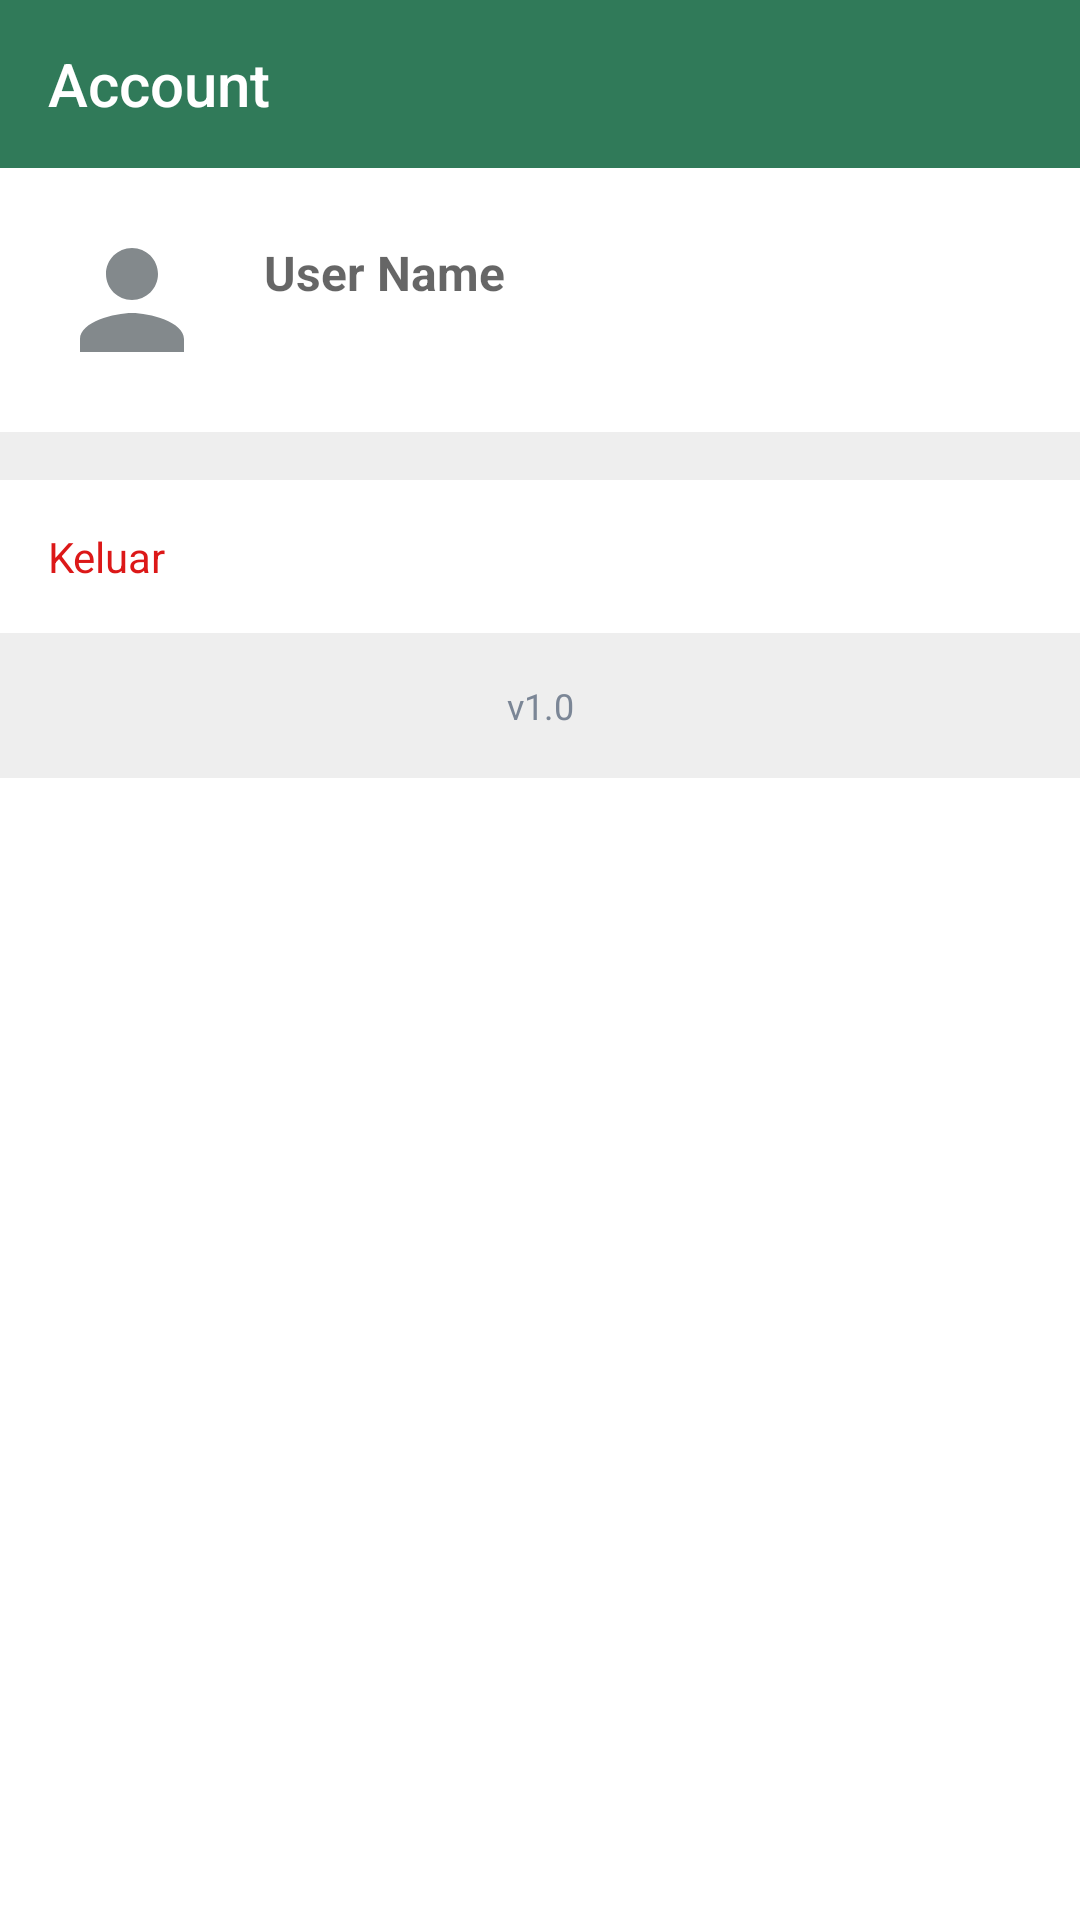

Where to tap for icons on this 1080w x 1920h app screen, as [x,y]:
person: [132,300]
